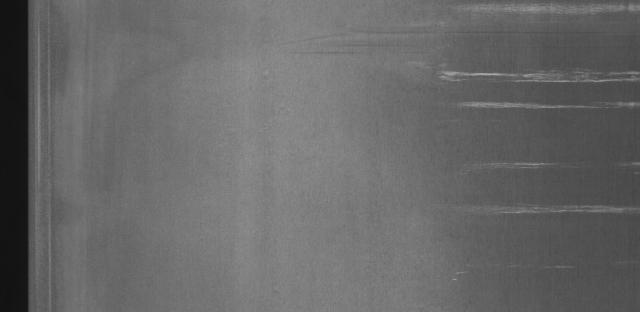waist_folding: (266, 11, 640, 246)
